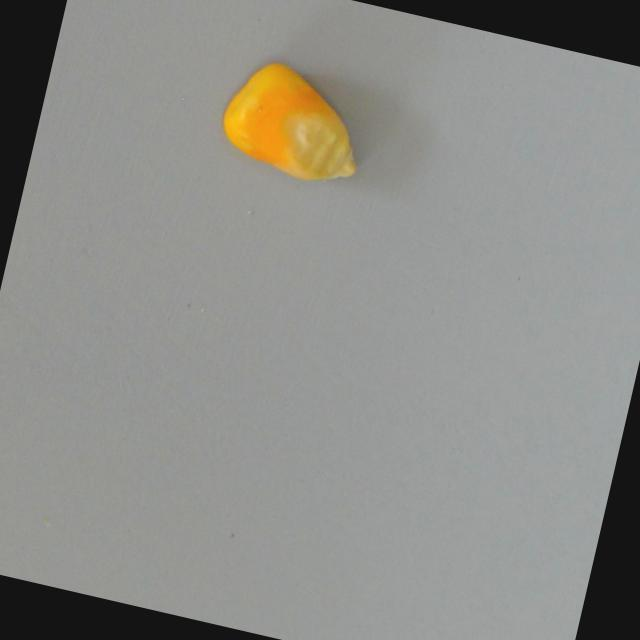entero: (211, 52, 379, 191)
